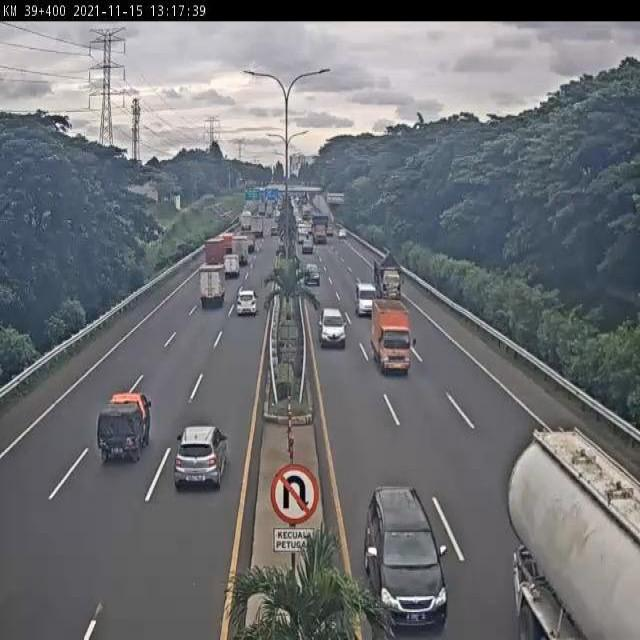car: (362, 482, 448, 630), (174, 426, 228, 490), (318, 305, 346, 352), (354, 280, 379, 319), (235, 288, 257, 319), (303, 260, 321, 284)
truck-m-: (197, 265, 226, 308)
truck-s-: (97, 391, 153, 464), (371, 299, 414, 377), (371, 253, 403, 308), (222, 255, 238, 281)
